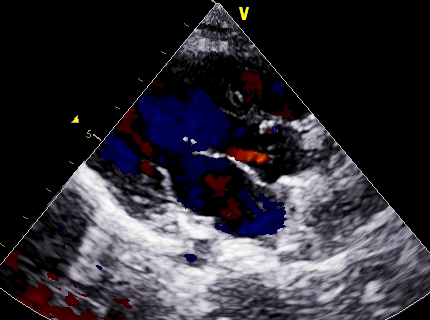MR: (139, 132, 204, 199)
